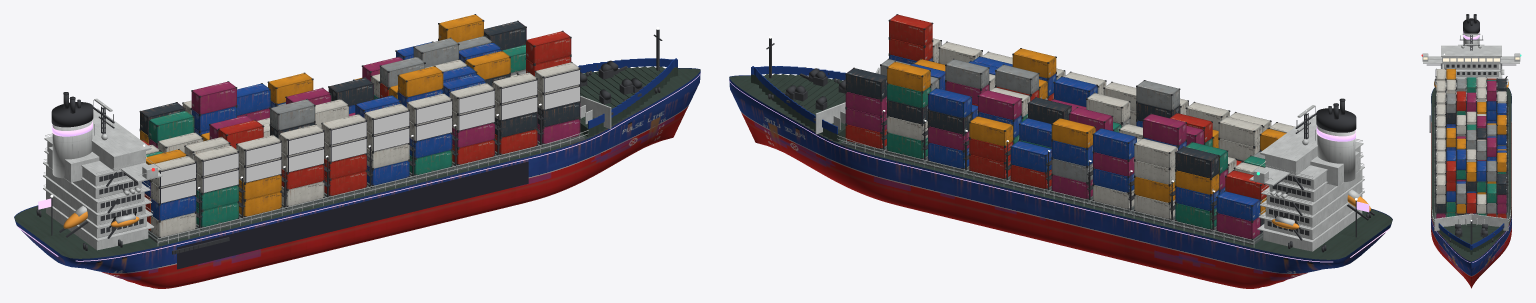
The model's file is pulse-ship.glb.
The picture shows the model from 3 angles, left to right: view 1: azimuth 30°, elevation 25°; view 2: azimuth 150°, elevation 25°; view 3: azimuth 270°, elevation 25°; orthographic projection. The views are drawn at different scales.
Parts seen in each view (by area): view 1: Hull, HullName, Accommodation, Deck, DeckLips, HatchCovers, Forecastle, Bulwark, Railing, Funnel, Lashing, ForeDeckGear (+79 smaller); view 2: Hull, Accommodation, Deck, DeckLips, HatchCovers, Forecastle, Railing, Bulwark, Funnel, Lashing, Box_1_6_3, Box_2_5_4 (+64 smaller); view 3: Hull, Deck, DeckLips, Lashing, Accommodation, Forecastle, Breakwater, HatchCovers, Bulwark, Mullions, ForeDeckGear, Railing (+70 smaller).
Boxes of the visible parts, left/top/right/bottom form: Hull: left=14, top=68, right=700, bottom=288; HullName: left=177, top=161, right=528, bottom=269; Accommodation: left=46, top=141, right=157, bottom=250; Deck: left=14, top=68, right=700, bottom=258; DeckLips: left=43, top=108, right=162, bottom=241; HatchCovers: left=148, top=135, right=584, bottom=243; Forecastle: left=580, top=66, right=677, bottom=136; Bulwark: left=578, top=58, right=677, bottom=128; Railing: left=157, top=130, right=588, bottom=245; Funnel: left=52, top=120, right=92, bottom=178; Lashing: left=196, top=105, right=543, bottom=228; ForeDeckGear: left=580, top=29, right=662, bottom=115; Hull: left=729, top=75, right=1392, bottom=288; Accommodation: left=1253, top=146, right=1362, bottom=251; Deck: left=729, top=75, right=1392, bottom=259; DeckLips: left=1249, top=114, right=1364, bottom=242; HatchCovers: left=841, top=140, right=1262, bottom=245; Forecastle: left=751, top=74, right=845, bottom=141; Railing: left=837, top=135, right=1254, bottom=247; Bulwark: left=751, top=66, right=845, bottom=134; Funnel: left=1317, top=126, right=1355, bottom=181; Lashing: left=881, top=111, right=1218, bottom=231; Box_1_6_3: left=1175, top=146, right=1219, bottom=178; Box_2_5_4: left=1142, top=113, right=1186, bottom=146; Hull: left=1431, top=87, right=1511, bottom=288; Deck: left=1431, top=87, right=1511, bottom=261; DeckLips: left=1423, top=45, right=1519, bottom=100; Lashing: left=1434, top=95, right=1508, bottom=212; Accommodation: left=1422, top=53, right=1520, bottom=99; Forecastle: left=1438, top=224, right=1504, bottom=254; Breakwater: left=1434, top=213, right=1508, bottom=231; HatchCovers: left=1434, top=107, right=1508, bottom=218; Bulwark: left=1438, top=223, right=1504, bottom=250; Mullions: left=1427, top=64, right=1515, bottom=97; ForeDeckGear: left=1439, top=221, right=1503, bottom=244; Railing: left=1431, top=103, right=1511, bottom=221.
Size of the model in its own units: 25.64 by 7.01 by 5.92.
Materials: 23 (7 with a texture image).
